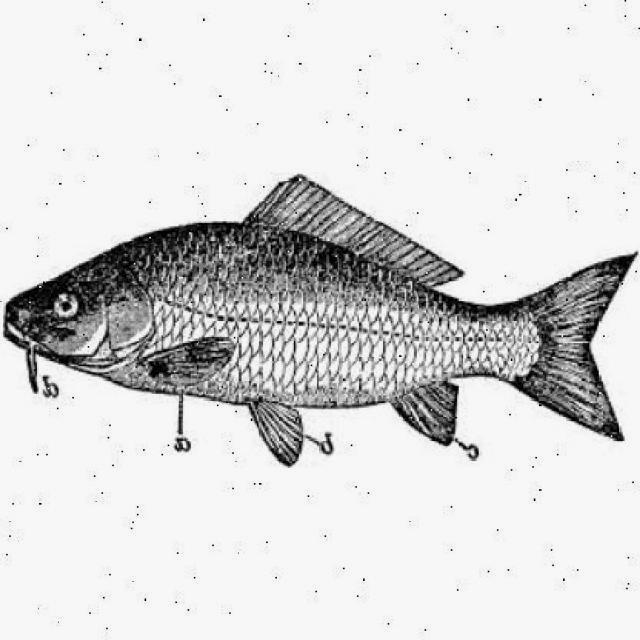ikan-mas: (6, 178, 626, 454)
